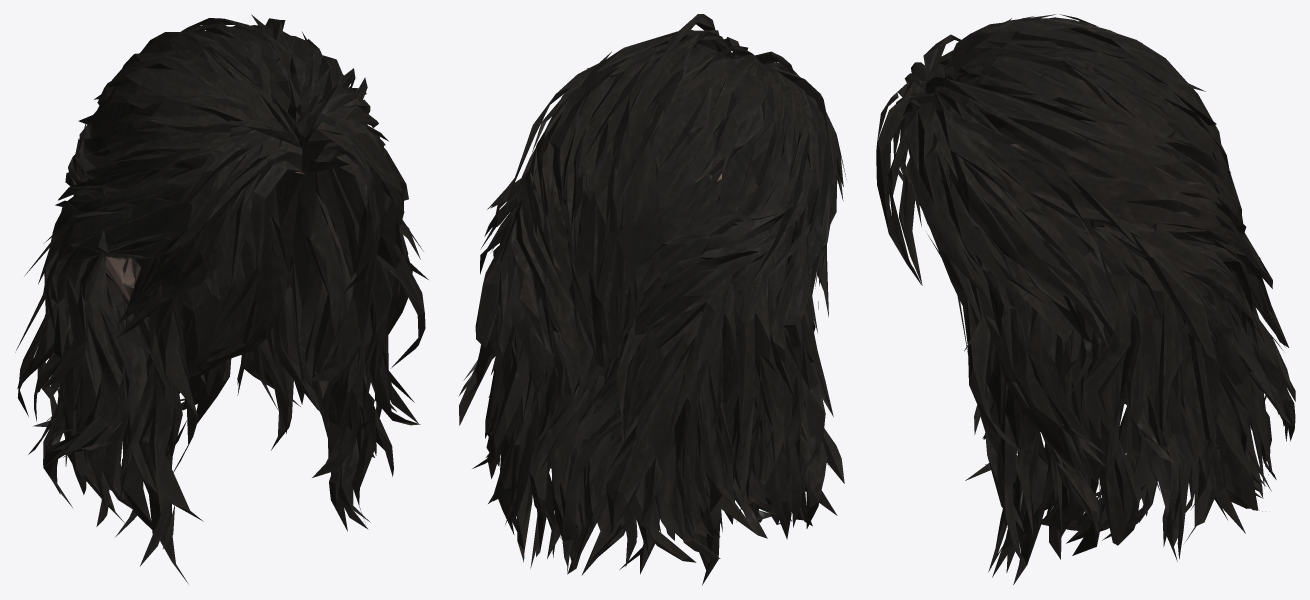
File: acc_hair_long_image.glb
The picture shows the model from 3 angles, left to right: view 1: azimuth 30°, elevation 25°; view 2: azimuth 150°, elevation 25°; view 3: azimuth 270°, elevation 25°; orthographic projection. The views are drawn at different scales.
Size of the model in its own units: 1.38 by 1.79 by 1.33.
Materials: 1 (1 with a texture image).
